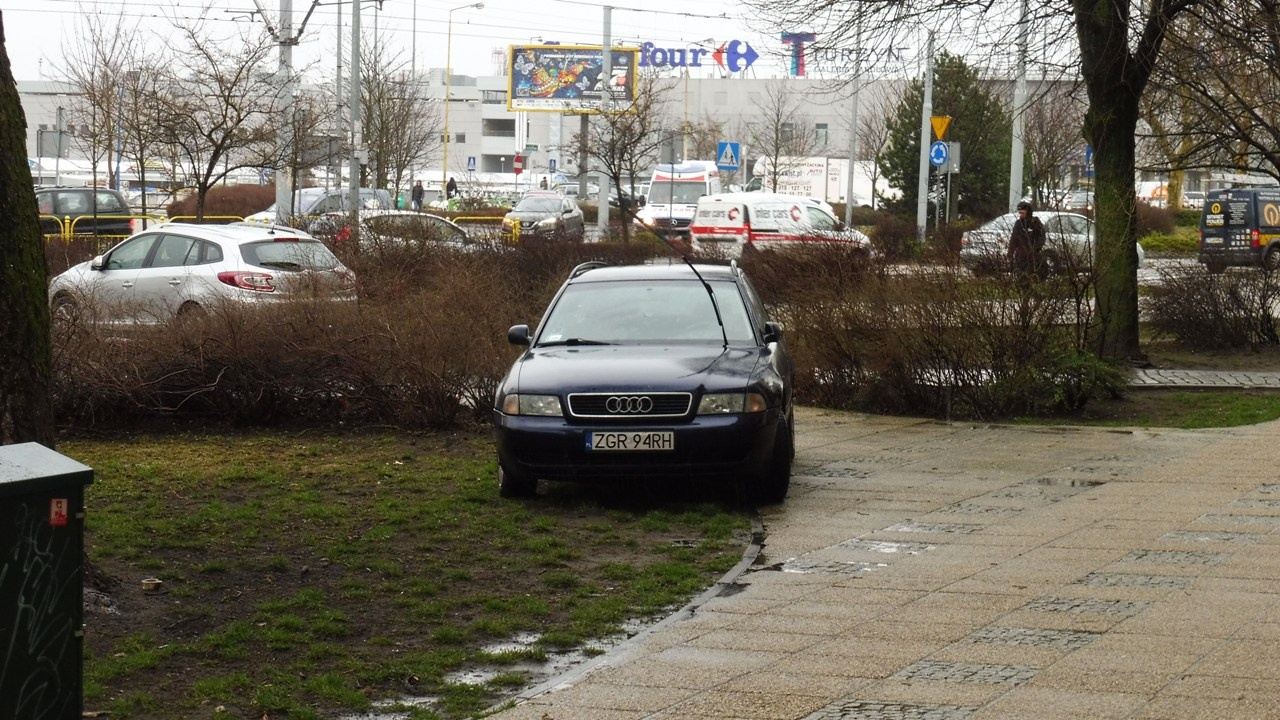A7: (928, 111, 950, 139)
C12: (926, 141, 952, 165)
D6b: (713, 139, 746, 170)
